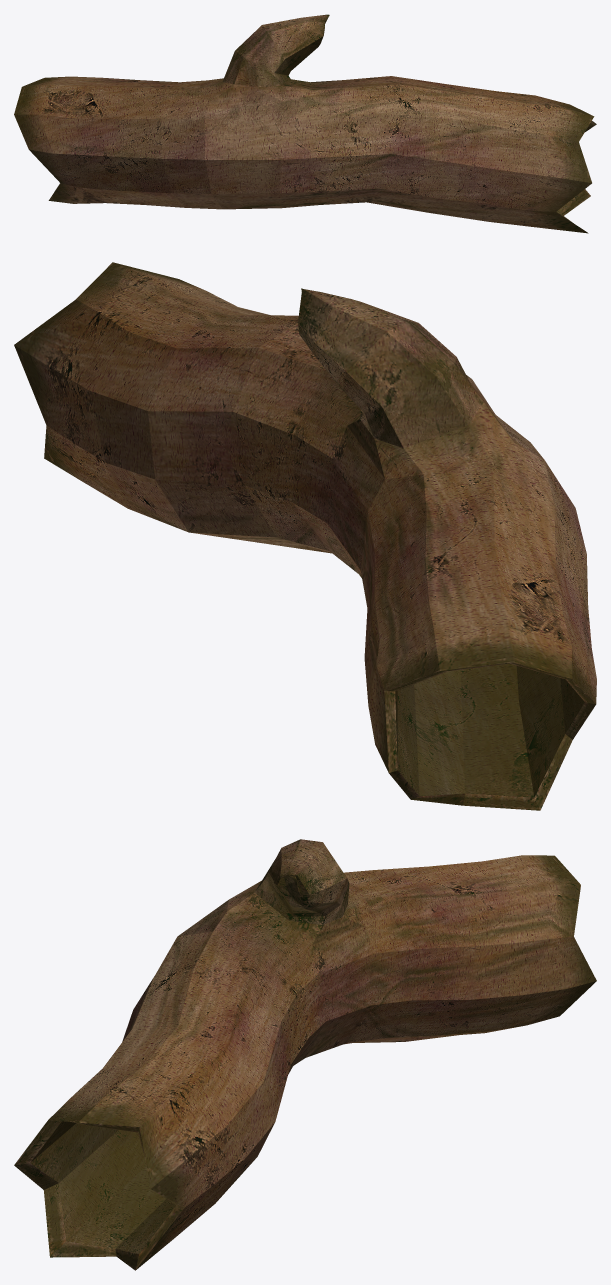
Rendered from tronco.glb.
3 views of the same model, one above another, from view 1: azimuth 30°, elevation 25°; view 2: azimuth 150°, elevation 25°; view 3: azimuth 270°, elevation 25° (orthographic). The views are drawn at different scales.
Visible parts, largest first — view 1: tronco; view 2: tronco; view 3: tronco.
Boxes of the visible parts, <box> form: tronco: <box>14,14,596,233</box>; tronco: <box>14,262,596,810</box>; tronco: <box>14,839,596,1270</box>.
Bounding box in the file's own units: 2.06 × 0.8678 × 1.69.
Materials: 1 (1 with a texture image).
